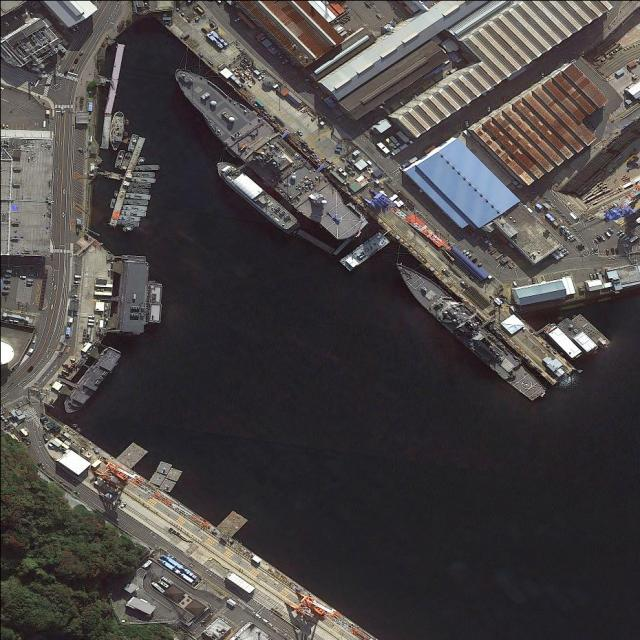Commander: (162, 55, 369, 248)
Destroyer: (389, 250, 548, 410)
Other Ship: (110, 111, 125, 151), (127, 133, 140, 153), (115, 149, 126, 169), (121, 152, 132, 171), (109, 197, 116, 209), (114, 189, 118, 198)
Other Warship: (211, 154, 302, 239), (58, 342, 125, 419)
